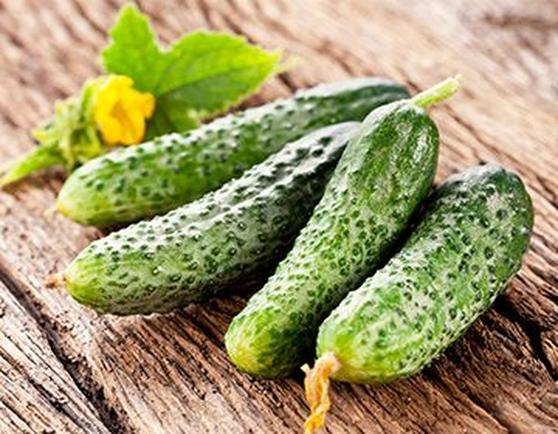cucumber: (238, 98, 442, 392), (312, 165, 536, 392), (65, 76, 430, 210)
